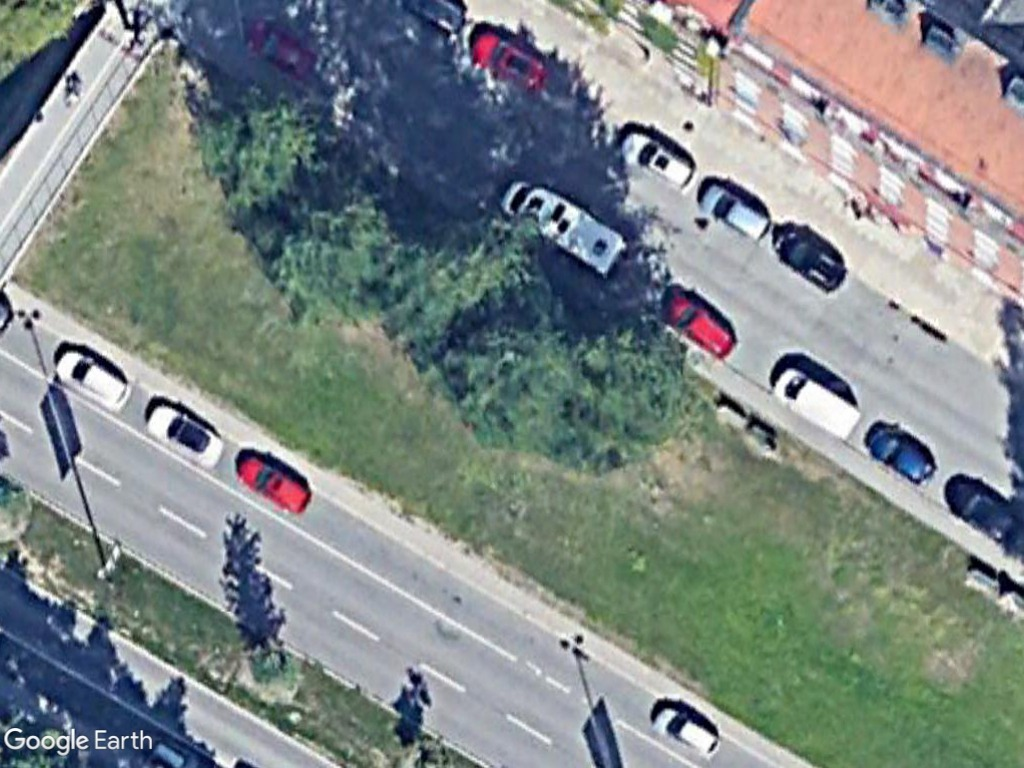car: (662, 275, 740, 365), (144, 395, 229, 474), (689, 177, 775, 253), (51, 339, 137, 415), (618, 123, 702, 197), (466, 27, 552, 98), (861, 418, 940, 495), (232, 448, 315, 520), (768, 220, 847, 293), (648, 693, 727, 763)
van: (499, 170, 629, 279), (768, 355, 867, 451)
